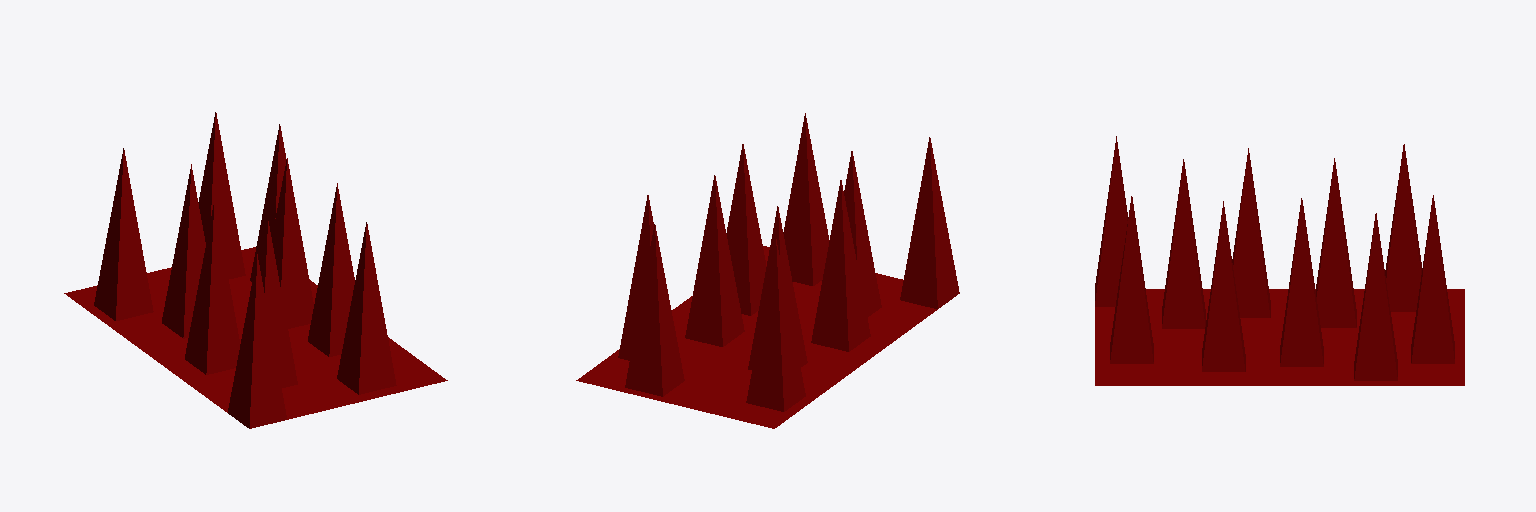
Rendered from Spikes.obj.
The picture shows the model from 3 angles: view 1: azimuth 30°, elevation 25°; view 2: azimuth 150°, elevation 25°; view 3: azimuth 270°, elevation 25°; orthographic projection.
Parts seen in each view (by area): view 1: skpE45D_001; view 2: skpE45D_001; view 3: skpE45D_001.
Boxes of the visible parts, <box> form: skpE45D_001: <box>64,112,447,428</box>; skpE45D_001: <box>576,113,959,428</box>; skpE45D_001: <box>1095,136,1464,385</box>.
Bounding box in the file's own units: 6769 × 5290 × 10953.